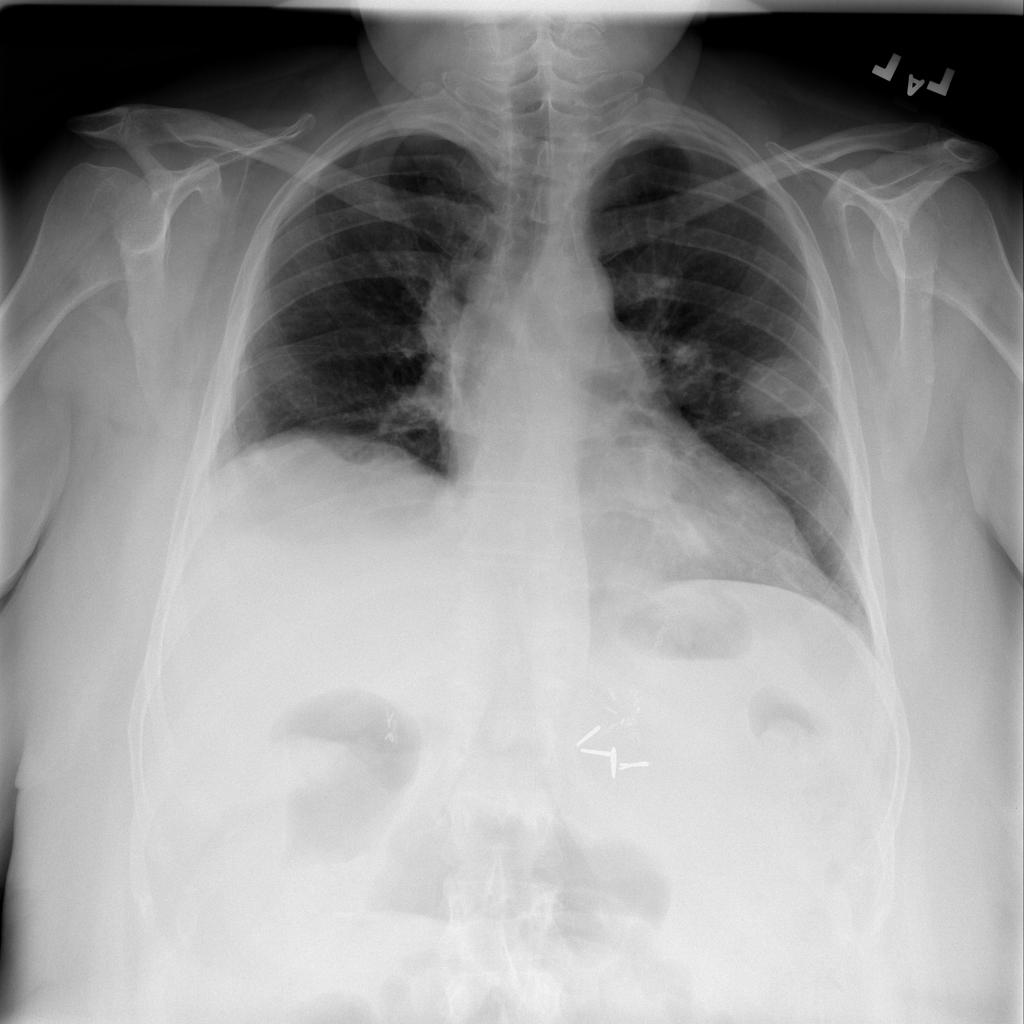nodule: (724, 333, 841, 441), (605, 432, 684, 513)
